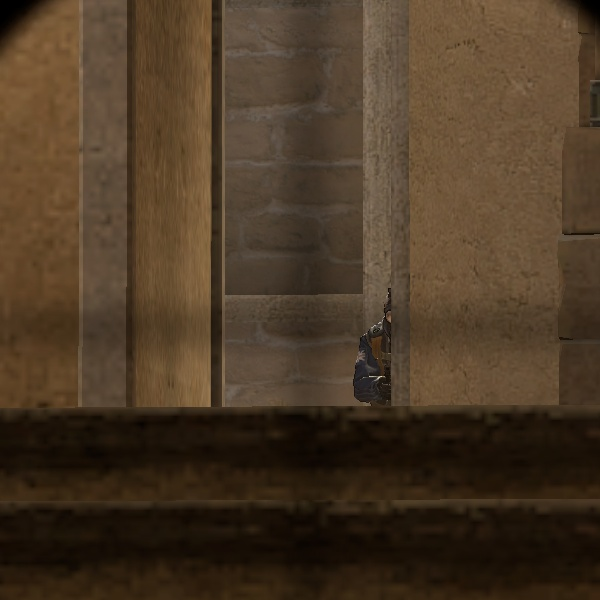t_body: (344, 313, 394, 404)
